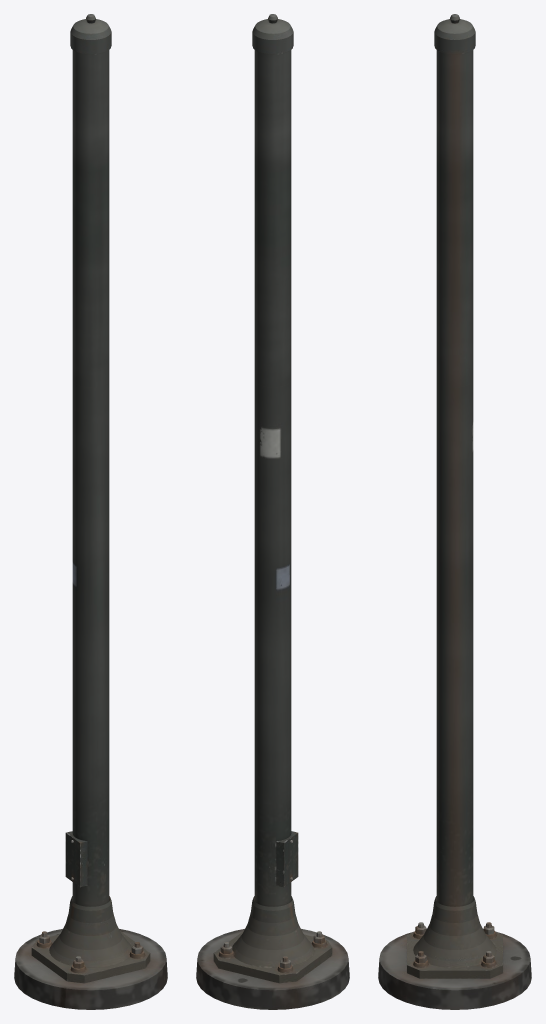
Rendered from pedPost-v1.glb.
3 views of the same model, side by side, from view 1: azimuth 30°, elevation 25°; view 2: azimuth 150°, elevation 25°; view 3: azimuth 270°, elevation 25° (orthographic).
Parts seen in each view (by area): view 1: pedPost-v1; view 2: pedPost-v1; view 3: pedPost-v1.
Part boxes in pixels (x1=…): pedPost-v1: x1=14, y1=14, x2=167, y2=1009; pedPost-v1: x1=196, y1=14, x2=349, y2=1009; pedPost-v1: x1=378, y1=14, x2=531, y2=1009.
Bounding box in the file's own units: 0.48 × 3.32 × 0.48.
1 material, 1 textured.
